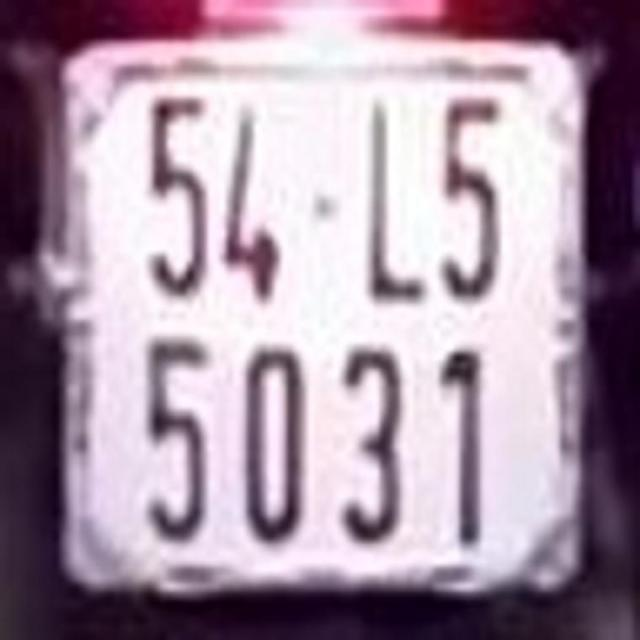0: (242, 342, 305, 538)
1: (434, 348, 481, 546)
3: (342, 344, 400, 542)
4: (225, 109, 282, 298)
5: (437, 100, 503, 298), (149, 94, 211, 300), (146, 337, 208, 538)
L: (362, 105, 425, 298)
